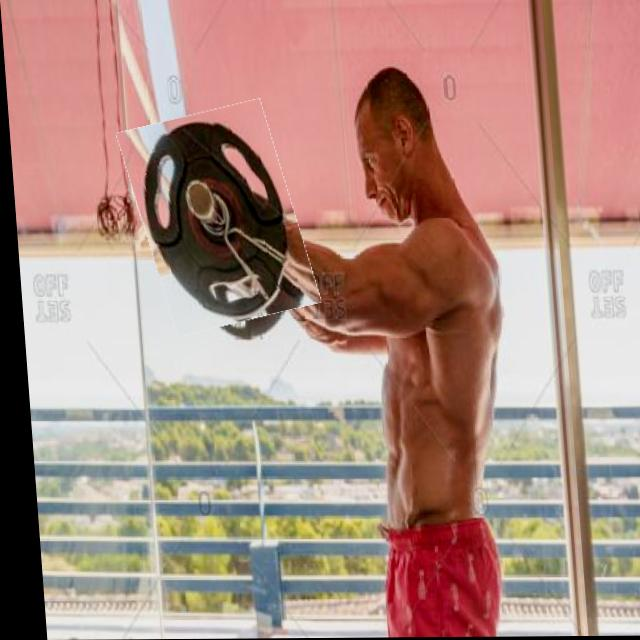barbell: (125, 106, 309, 330)
